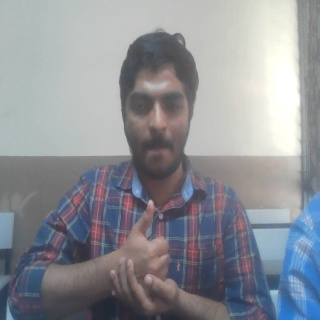Face: (117, 30, 201, 184)
Help: (106, 199, 183, 318)
